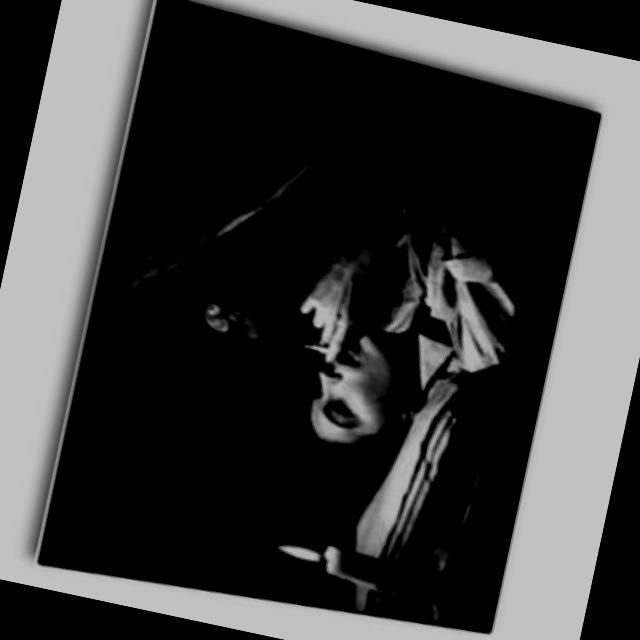cigarette: (274, 326, 358, 368)
